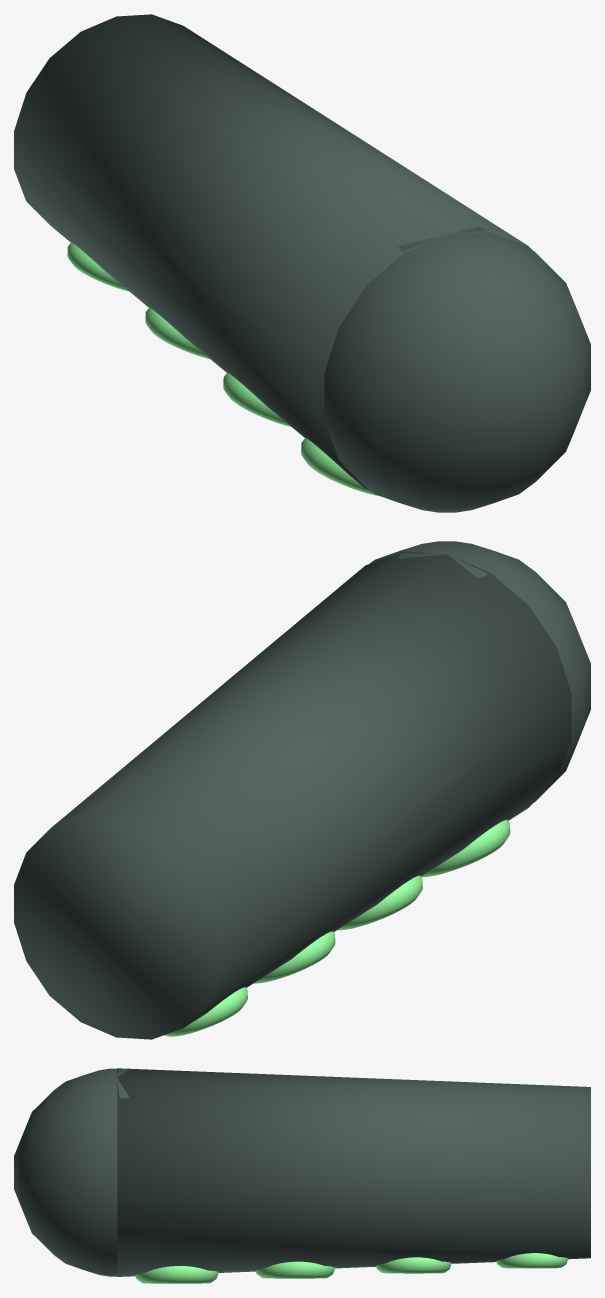
The model's file is seg3.glb.
3 renders of one model, top to bottom at view 1: azimuth 30°, elevation 25°; view 2: azimuth 150°, elevation 25°; view 3: azimuth 270°, elevation 25°, orthographic. The views are drawn at different scales.
Parts seen in each view (by area): view 1: tentacle, sucker; view 2: tentacle, sucker; view 3: tentacle, sucker.
Boxes of the visible parts, x1,y1,x2,y2 form: tentacle: (14,14,590,512); sucker: (67,242,379,496); tentacle: (14,541,590,1039); sucker: (164,820,510,1036); tentacle: (14,1068,590,1276); sucker: (135,1253,567,1283).
Bounding box in the file's own units: 0.3702 × 0.3941 × 1.04.
